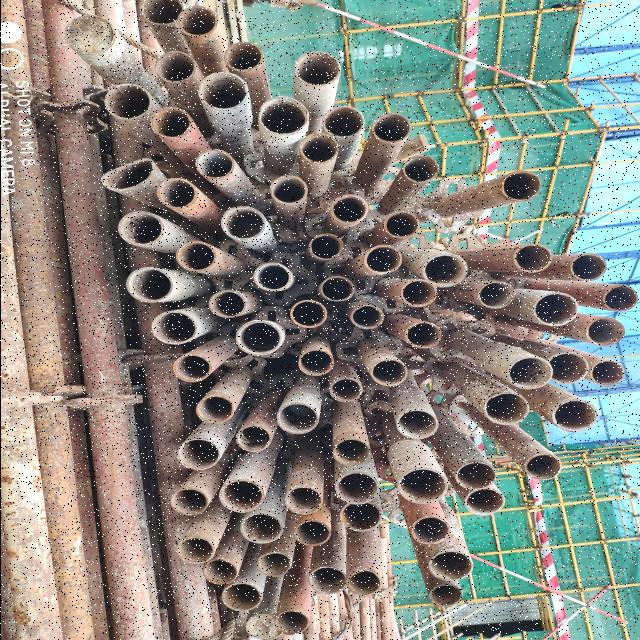pipe: (257, 95, 309, 138), (196, 71, 248, 111), (64, 15, 115, 55), (98, 158, 157, 192), (396, 466, 448, 504), (122, 266, 172, 304), (292, 49, 342, 86), (234, 320, 284, 356), (116, 210, 166, 246), (530, 290, 580, 326), (504, 354, 554, 389), (104, 82, 150, 120), (421, 251, 469, 287), (150, 311, 198, 347), (218, 478, 267, 513), (549, 398, 599, 432), (220, 206, 266, 242), (148, 104, 194, 140), (334, 472, 382, 506), (482, 392, 530, 426), (582, 313, 628, 347), (320, 102, 364, 137), (499, 168, 544, 202), (427, 549, 473, 582), (237, 512, 284, 544), (173, 239, 217, 273), (176, 437, 220, 471), (274, 401, 318, 435), (394, 408, 439, 441), (152, 49, 196, 82), (338, 502, 386, 532), (176, 5, 218, 39), (546, 351, 588, 385), (368, 112, 412, 144), (166, 486, 210, 518), (281, 484, 325, 516), (218, 582, 264, 612), (361, 244, 405, 275), (136, 0, 188, 26), (298, 133, 340, 165), (251, 260, 293, 292), (156, 176, 198, 208), (171, 352, 213, 384), (194, 148, 237, 179), (408, 514, 452, 544), (453, 460, 497, 490), (328, 193, 370, 224), (224, 40, 264, 72), (306, 564, 346, 596), (462, 486, 504, 516), (512, 243, 553, 273), (268, 175, 308, 205), (399, 278, 439, 308), (195, 394, 235, 424), (330, 437, 370, 467), (522, 452, 562, 482), (476, 279, 516, 309), (243, 610, 283, 640), (292, 519, 333, 548), (207, 290, 246, 320), (288, 298, 328, 327), (345, 569, 385, 598), (567, 254, 608, 282), (174, 537, 216, 564), (601, 283, 640, 312), (402, 155, 442, 183), (382, 210, 419, 240), (306, 232, 344, 261), (233, 426, 272, 454), (403, 322, 443, 349), (270, 608, 310, 635), (200, 556, 238, 584), (256, 550, 294, 578), (348, 302, 386, 330), (368, 359, 408, 385), (586, 360, 626, 386), (298, 349, 334, 377), (319, 276, 355, 303), (426, 584, 466, 608), (327, 377, 362, 403)
